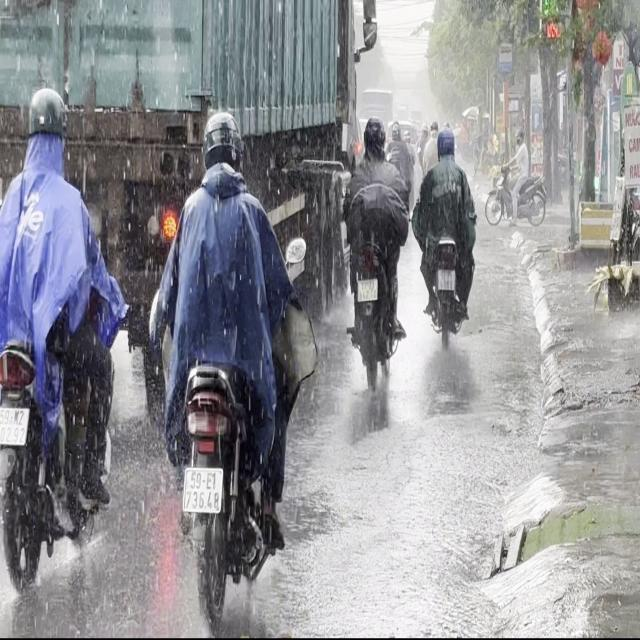helmet: (24, 85, 68, 166), (200, 108, 244, 179), (360, 114, 386, 160), (436, 125, 456, 158)
licenseplate: (149, 103, 303, 634), (0, 79, 126, 617), (341, 111, 410, 396), (414, 122, 477, 340)
nohelmet: (183, 467, 222, 511), (0, 406, 28, 443), (357, 278, 377, 300), (437, 269, 455, 289)
